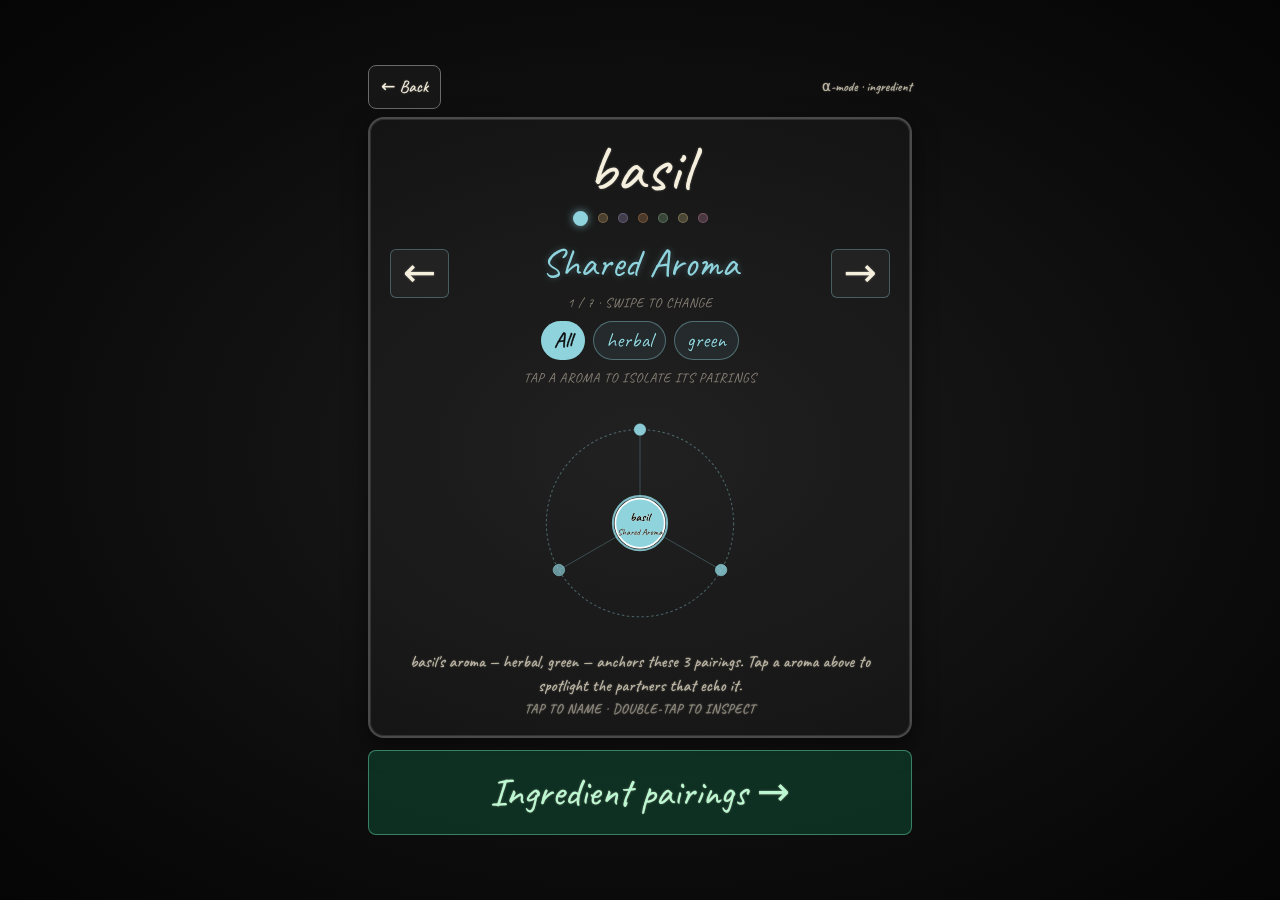
Test case: AlphaModeDetailsCard — render › Surprising lens shows strong, non-overlapping pairings only
This screenshot has width=1280, height=900.
Step 1. Click the button with test id "alpha-view-dot-surprising" → point(702, 218), box [698,213,708,223]
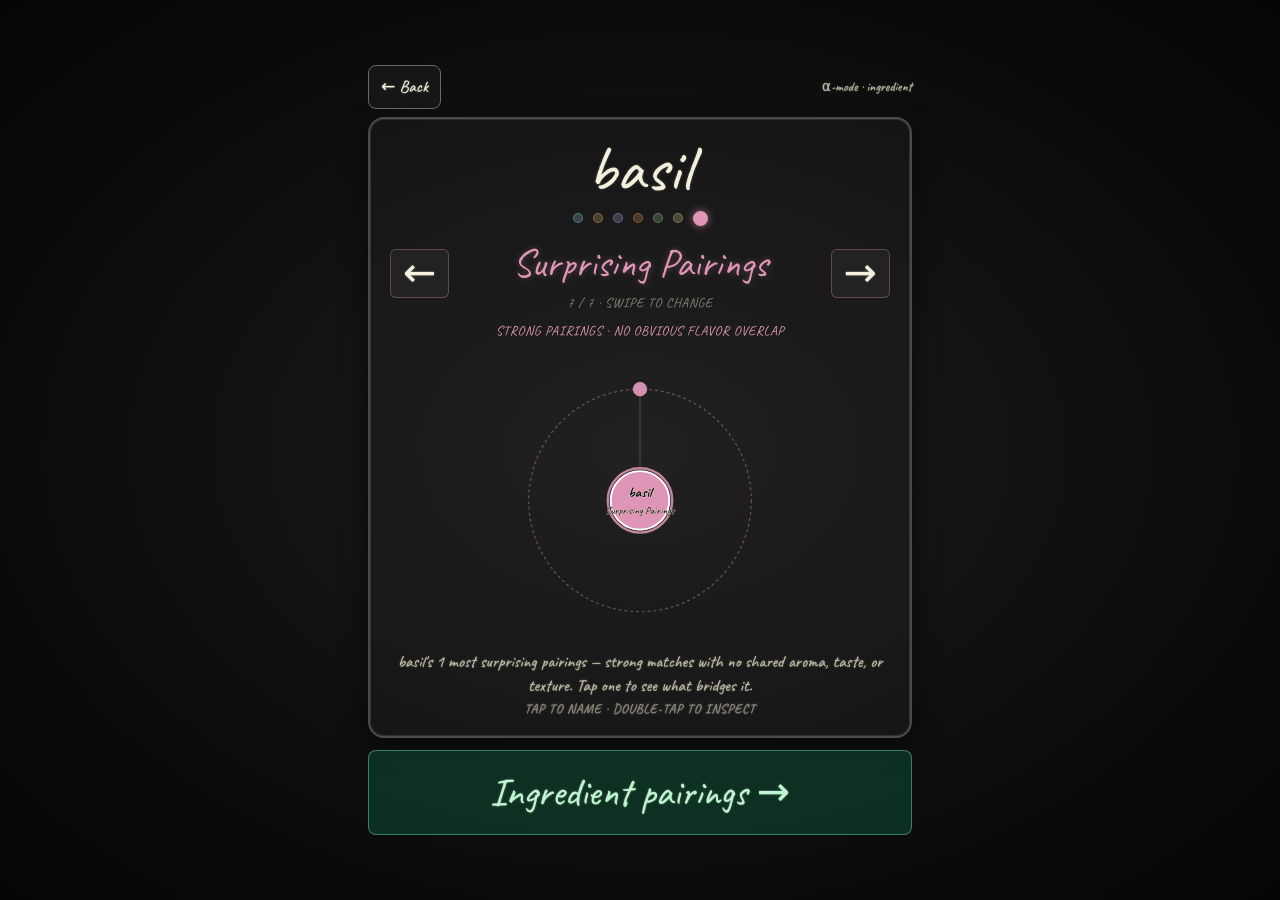
Expected: the element with test id "alpha-affinity-node-garlic" is shown, [633,382,647,500]
Now the text with test id "alpha-lens-title" reads "Surprising Pairings", box [513,238,767,288]
Now the text "Strong pairings · no obvious flavor overlap" is shown, box [496,322,784,339]
